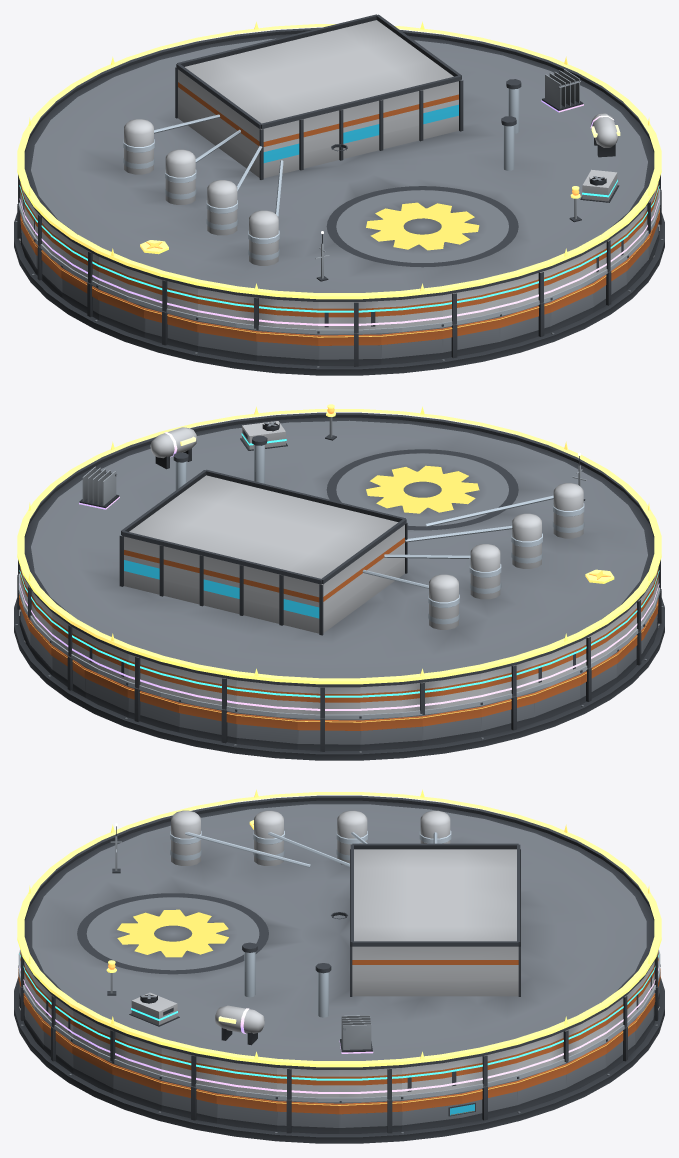
The model's file is superconductor_lab_xl.glb.
The picture shows the model from 3 angles, top to bottom: view 1: azimuth 30°, elevation 25°; view 2: azimuth 150°, elevation 25°; view 3: azimuth 270°, elevation 25°; orthographic projection.
Parts seen in each view (by area): view 1: Roof, Base, L4, Wall_21, Wall_20, Wall_22, Wall_19, Wall_23, Wall_18, Wall_24, Upper_20, Upper_22 (+20 smaller); view 2: Roof, Base, L4, Wall_10, Wall_11, Wall_09, Wall_12, Wall_08, Wall_13, Wall_07, Upper_10, Upper_11 (+21 smaller); view 3: Roof, Base, L4, Wall_00, Wall_31, Wall_30, Wall_01, Wall_29, Wall_02, Upper_00, Upper_31, Wall_28 (+19 smaller).
Part boxes in pixels (x1,y1,x2,y2): Roof: [24, 14, 654, 301]; Base: [14, 213, 664, 375]; L4: [541, 69, 620, 157]; Wall_21: [318, 333, 381, 366]; Wall_20: [256, 328, 318, 365]; Wall_22: [381, 327, 442, 364]; Wall_19: [197, 321, 256, 361]; Wall_23: [442, 316, 499, 358]; Wall_18: [144, 306, 197, 351]; Wall_24: [499, 301, 551, 347]; Upper_20: [256, 297, 318, 329]; Upper_22: [381, 295, 442, 328]; Roof: [24, 412, 654, 687]; Base: [14, 598, 664, 760]; L4: [79, 427, 197, 509]; Wall_10: [297, 718, 360, 751]; Wall_11: [360, 715, 422, 750]; Wall_09: [236, 712, 297, 749]; Wall_12: [422, 706, 481, 746]; Wall_08: [179, 700, 236, 743]; Wall_13: [481, 691, 534, 737]; Wall_07: [127, 686, 179, 732]; Upper_10: [297, 686, 360, 718]; Upper_11: [360, 682, 422, 714]; Roof: [24, 795, 654, 1069]; Base: [14, 977, 664, 1143]; L4: [215, 1005, 373, 1053]; Wall_00: [339, 1099, 402, 1133]; Wall_31: [276, 1099, 339, 1133]; Wall_30: [216, 1092, 276, 1131]; Wall_01: [402, 1092, 462, 1131]; Wall_29: [161, 1080, 216, 1123]; Wall_02: [462, 1080, 517, 1123]; Upper_00: [339, 1068, 401, 1099]; Upper_31: [277, 1068, 339, 1099]; Wall_28: [112, 1062, 161, 1111].
Bounding box in the file's own units: 23.15 × 4.96 × 23.15.
